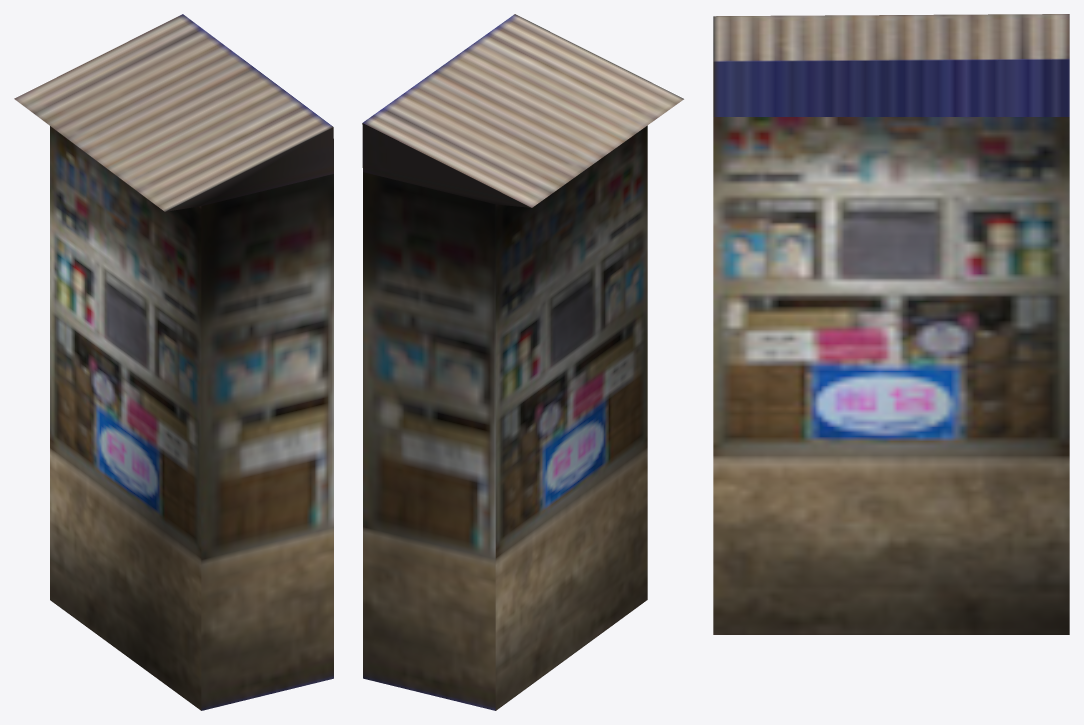
The model's file is dambe_window.FBX.
3 views of the same model, side by side, from view 1: azimuth 30°, elevation 25°; view 2: azimuth 150°, elevation 25°; view 3: azimuth 270°, elevation 25° (orthographic). The views are drawn at different scales.
Visible parts, largest first — view 1: polySurface27; view 2: polySurface27; view 3: polySurface27.
Boxes of the visible parts, <box> form: polySurface27: <box>14,14,333,710</box>; polySurface27: <box>362,14,683,710</box>; polySurface27: <box>713,14,1069,634</box>.
Bounding box in the file's own units: 3.94 × 12.3 × 6.1.
